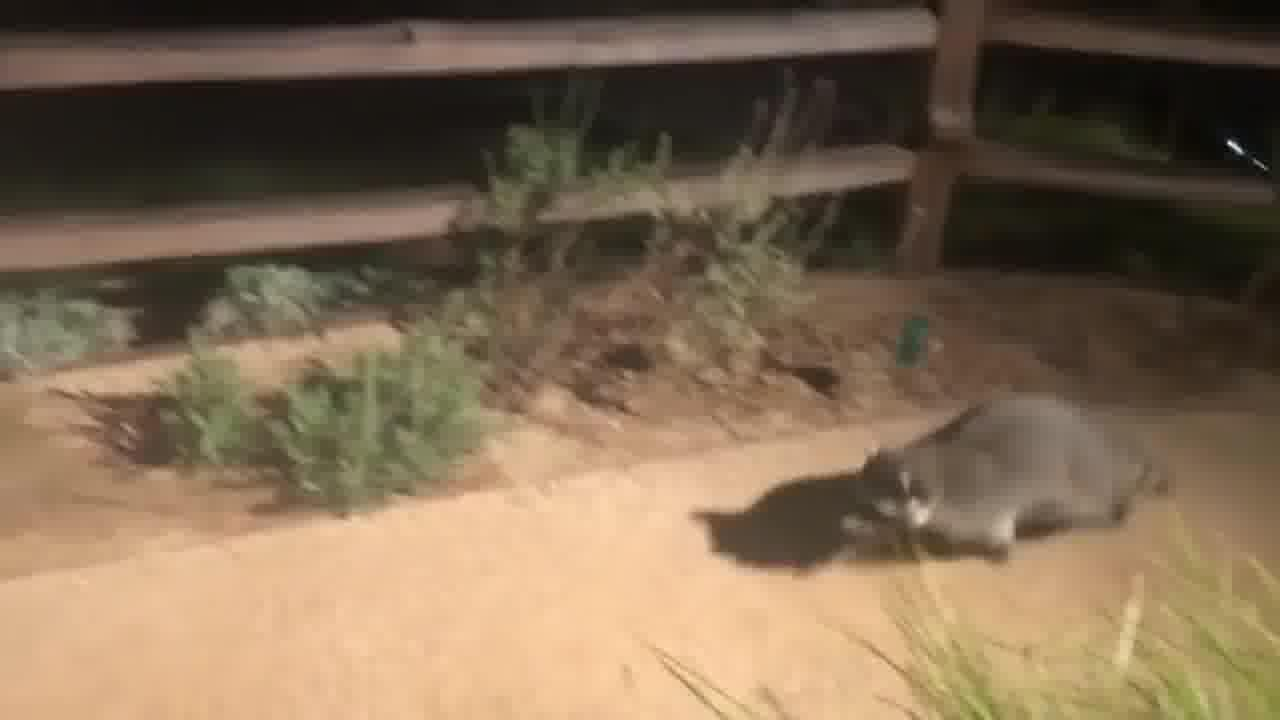raccoon: (841, 389, 1174, 558)
